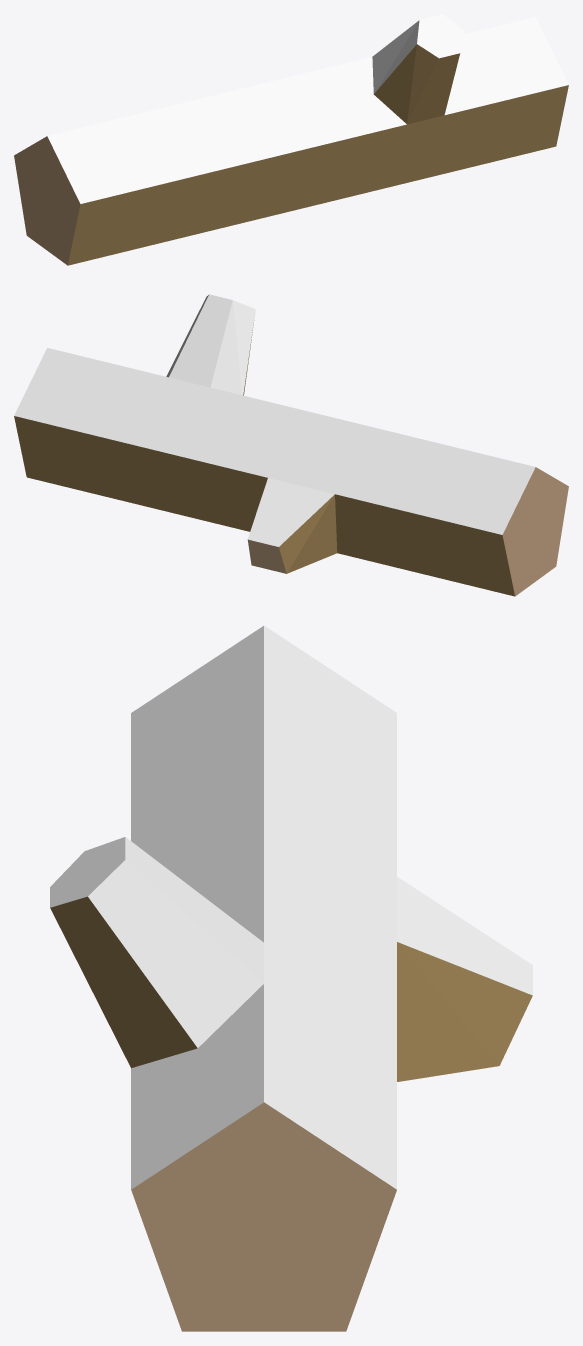
Rendered from Simple_Firewood_Snow_02_LOD.fbx.
3 renders of one model, top to bottom at view 1: azimuth 30°, elevation 25°; view 2: azimuth 150°, elevation 25°; view 3: azimuth 270°, elevation 25°, orthographic. The views are drawn at different scales.
Parts seen in each view (by area): view 1: Simple_Firewood_Snow_02_LOD0; view 2: Simple_Firewood_Snow_02_LOD0; view 3: Simple_Firewood_Snow_02_LOD0.
Part boxes in pixels (bbox=[...]): Simple_Firewood_Snow_02_LOD0: bbox=[14, 14, 568, 265]; Simple_Firewood_Snow_02_LOD0: bbox=[14, 294, 568, 596]; Simple_Firewood_Snow_02_LOD0: bbox=[50, 625, 532, 1331].
Size of what is drawn, in the model's own units: 56 by 19.03 by 23.97.
